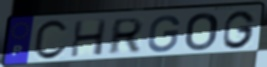C: (32, 19, 70, 62)
G: (221, 9, 257, 50), (146, 14, 182, 54)
H: (69, 18, 109, 59)
O: (183, 11, 220, 52)
R: (106, 16, 146, 56)
